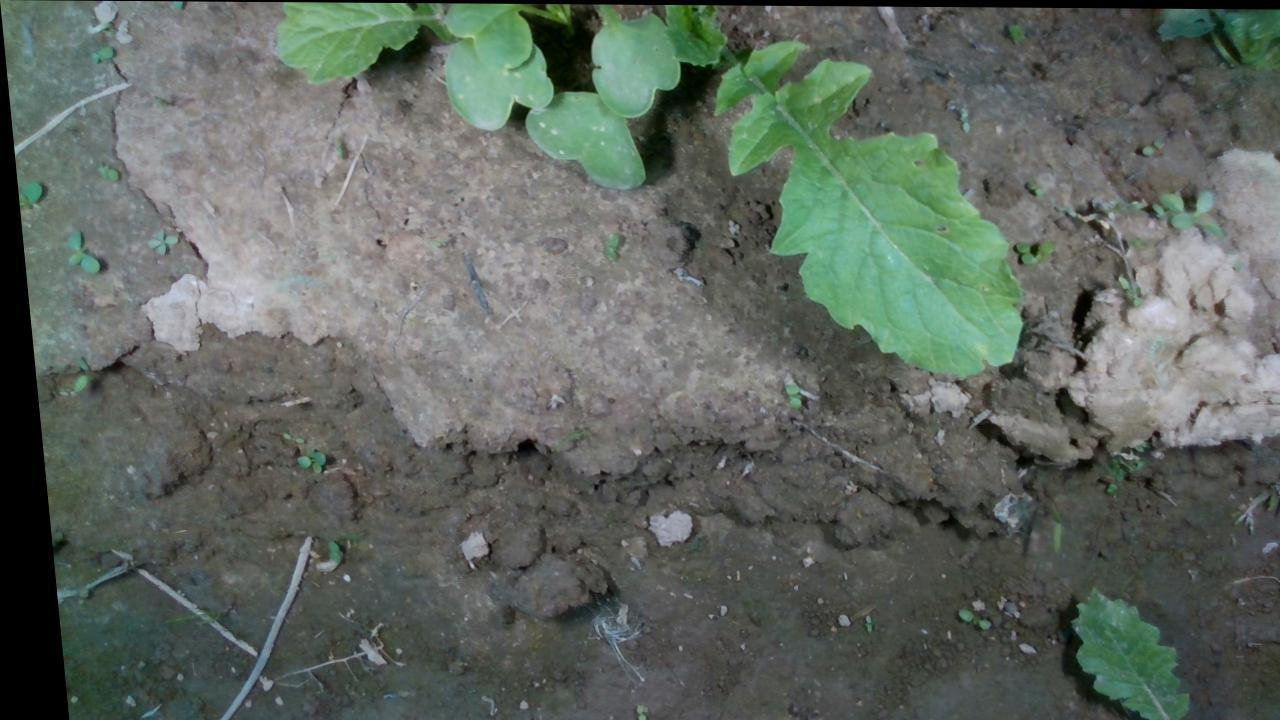weed: (58, 225, 95, 273), (282, 442, 319, 475), (139, 226, 174, 257), (943, 605, 979, 627), (83, 42, 114, 65), (594, 229, 617, 259), (89, 159, 118, 182), (1133, 135, 1165, 155), (774, 380, 797, 407), (953, 104, 970, 132), (1019, 176, 1040, 196), (272, 430, 296, 443), (616, 700, 632, 719), (850, 612, 861, 634), (1094, 478, 1108, 491)
